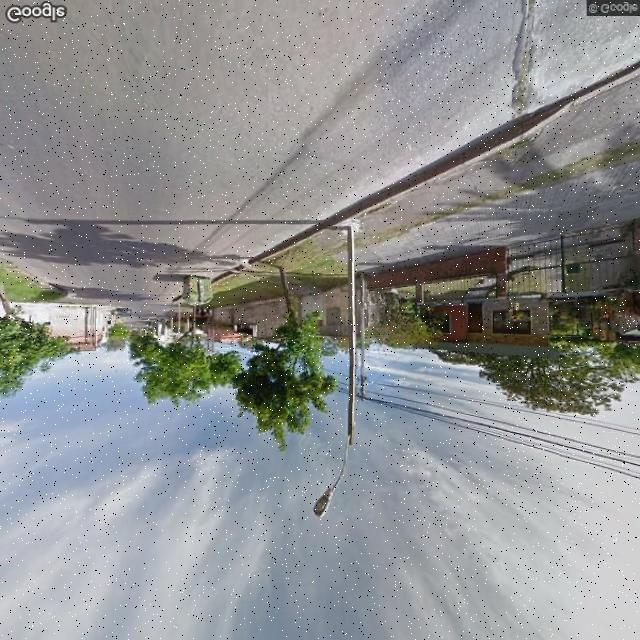garbage container: (173, 274, 224, 312)
